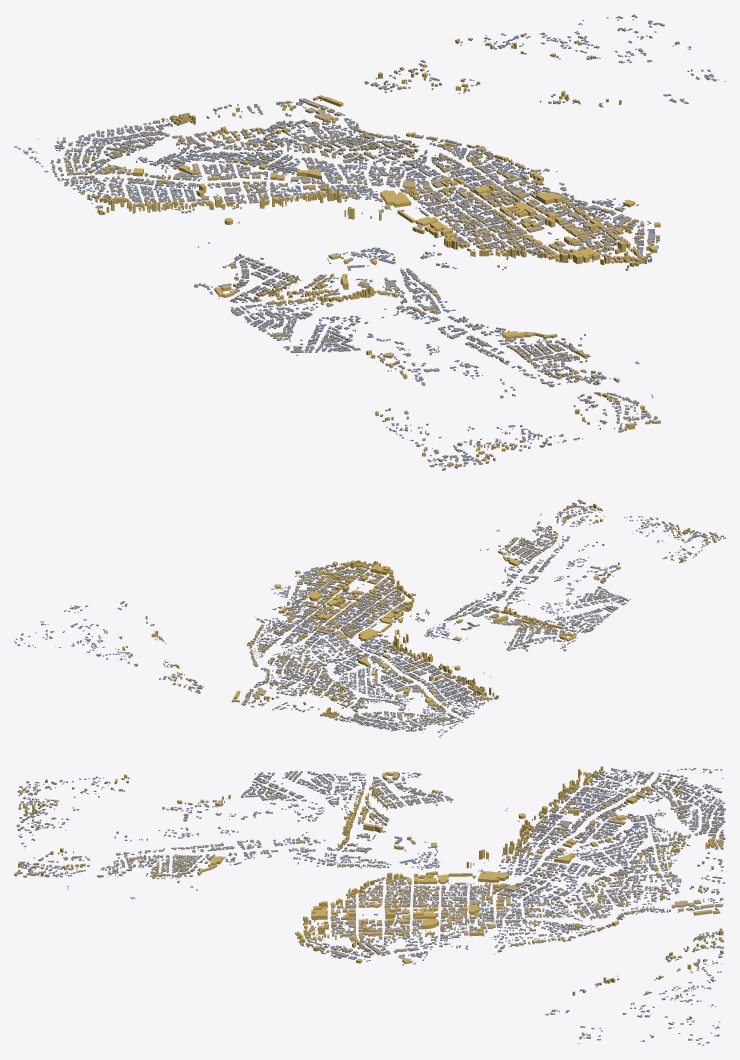
The model's file is buildings.glb.
The picture shows the model from 3 angles, top to bottom: view 1: azimuth 30°, elevation 25°; view 2: azimuth 150°, elevation 25°; view 3: azimuth 270°, elevation 25°; orthographic projection. The views are drawn at different scales.
Parts seen in each view (by area): view 1: buildings; view 2: buildings; view 3: buildings.
Part boxes in pixels (box(x1,y1,x2,y2)): buildings: box(14, 14, 725, 470); buildings: box(14, 499, 725, 737); buildings: box(14, 766, 725, 1045).
Size of the model in its own units: 2950 by 137 by 3435.
